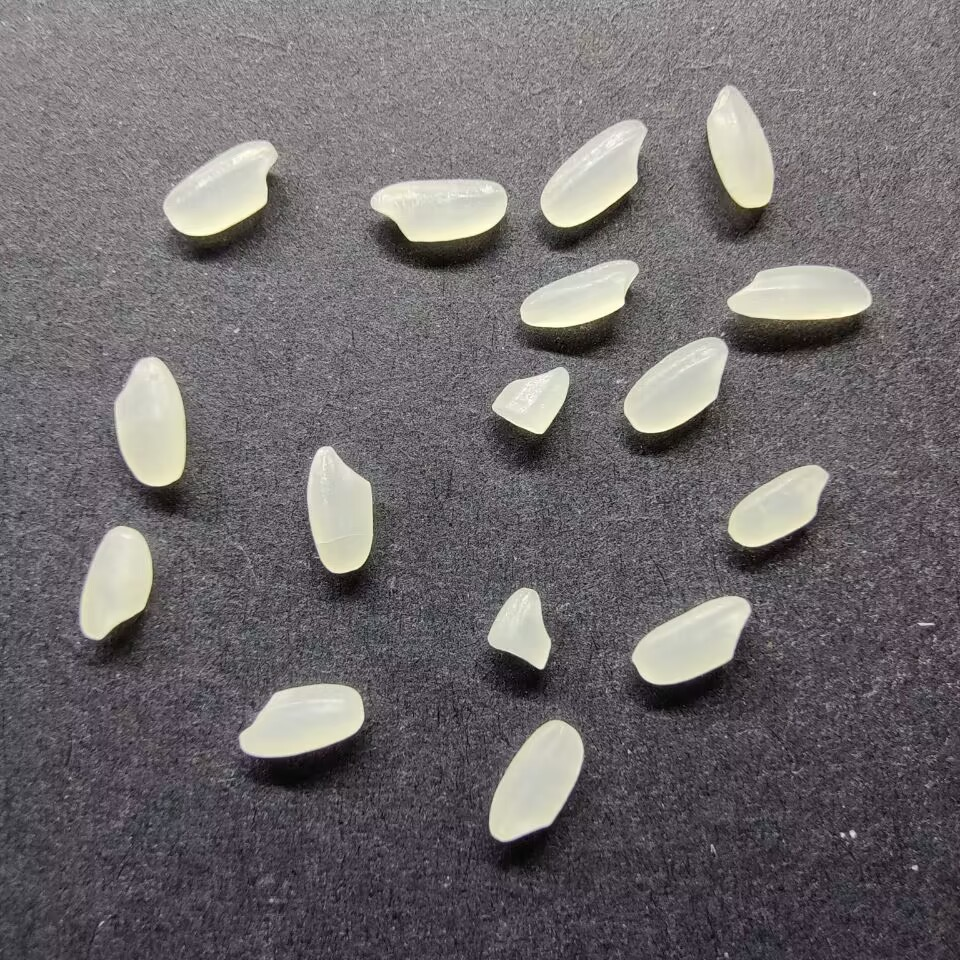broken: (484, 585, 552, 670), (491, 364, 569, 437)
rice: (538, 117, 649, 229), (488, 719, 584, 845), (162, 138, 278, 237), (631, 595, 751, 687), (621, 335, 729, 434), (111, 355, 187, 487), (236, 682, 366, 758), (368, 177, 509, 243), (305, 444, 375, 575), (704, 84, 776, 210), (725, 462, 830, 548), (518, 257, 641, 329), (77, 525, 153, 641), (725, 264, 873, 321)
